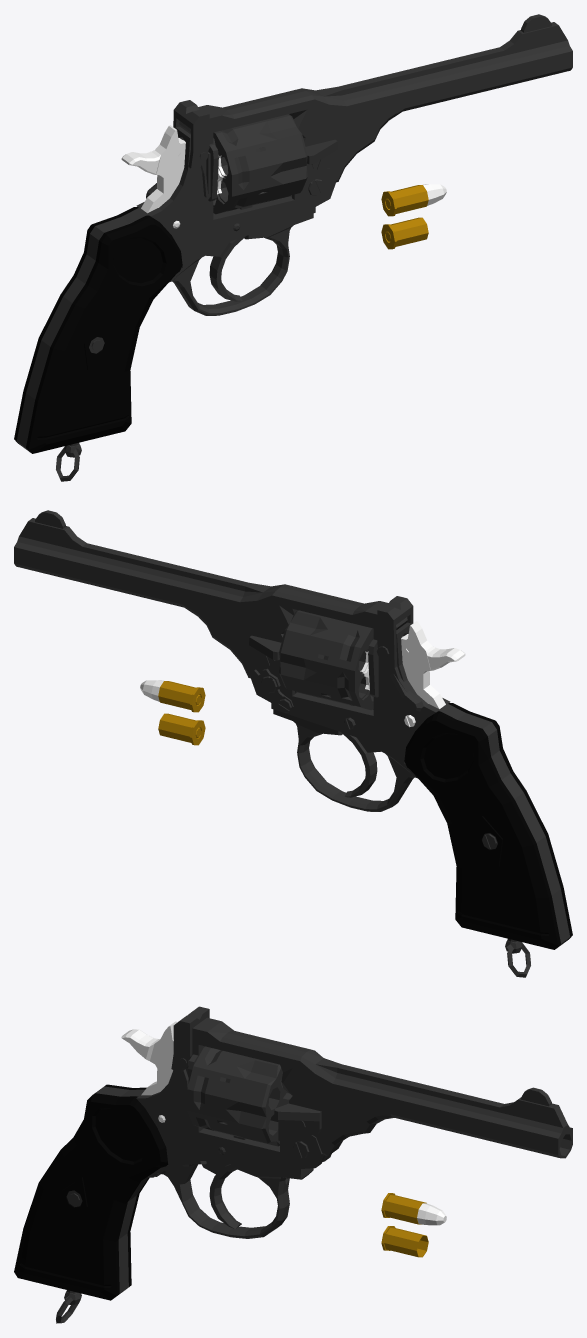
Rendered from webley_mk_iv.glb.
3 renders of one model, top to bottom at view 1: azimuth 30°, elevation 25°; view 2: azimuth 150°, elevation 25°; view 3: azimuth 330°, elevation 25°, orthographic.
Visible parts, largest first — view 1: webley mk3_1, webley barrel mk3_6, webley cylinder mk3_5, webley hammer mk3_3, webley lock lever mk3_2, .455 webley_8, 455web_7, webley trigga mk3_0; view 2: webley mk3_1, webley barrel mk3_6, webley cylinder mk3_5, webley hammer mk3_3, webley lock lever mk3_2, .455 webley_8, 455web_7, webley trigga mk3_0; view 3: webley mk3_1, webley barrel mk3_6, webley cylinder mk3_5, webley hammer mk3_3, .455 webley_8, webley lock lever mk3_2, webley trigga mk3_0, 455web_7.
Part boxes in pixels (bbox=[...]): webley mk3_1: bbox=[14, 126, 336, 481]; webley barrel mk3_6: bbox=[179, 14, 572, 196]; webley cylinder mk3_5: bbox=[213, 114, 307, 214]; webley hammer mk3_3: bbox=[121, 125, 185, 228]; webley lock lever mk3_2: bbox=[146, 100, 209, 198]; .455 webley_8: bbox=[381, 184, 446, 216]; 455web_7: bbox=[381, 217, 428, 249]; webley trigga mk3_0: bbox=[206, 223, 245, 301]; webley mk3_1: bbox=[250, 622, 572, 977]; webley barrel mk3_6: bbox=[14, 510, 407, 693]; webley cylinder mk3_5: bbox=[279, 610, 373, 710]; webley hammer mk3_3: bbox=[401, 621, 465, 727]; webley lock lever mk3_2: bbox=[376, 596, 423, 711]; .455 webley_8: bbox=[140, 680, 205, 712]; 455web_7: bbox=[158, 713, 205, 745]; webley trigga mk3_0: bbox=[341, 717, 380, 797]; webley mk3_1: bbox=[14, 1043, 331, 1323]; webley barrel mk3_6: bbox=[192, 1017, 572, 1165]; webley cylinder mk3_5: bbox=[187, 1046, 292, 1146]; webley hammer mk3_3: bbox=[121, 1021, 177, 1122]; .455 webley_8: bbox=[381, 1193, 446, 1225]; webley lock lever mk3_2: bbox=[171, 1006, 209, 1073]; webley trigga mk3_0: bbox=[202, 1147, 241, 1228]; 455web_7: bbox=[381, 1226, 428, 1257].
Size of the model in its own units: 3.13 by 1.92 by 0.4438.
